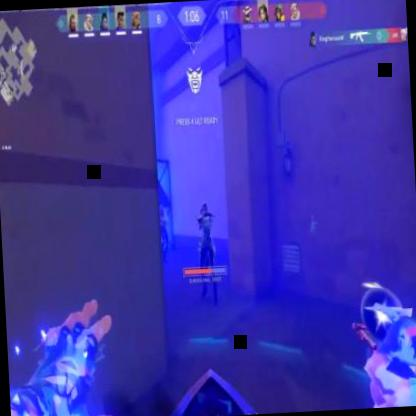enemy: (192, 199, 221, 307), (156, 204, 170, 263)
enemy_head: (198, 201, 208, 218), (159, 204, 164, 216)
